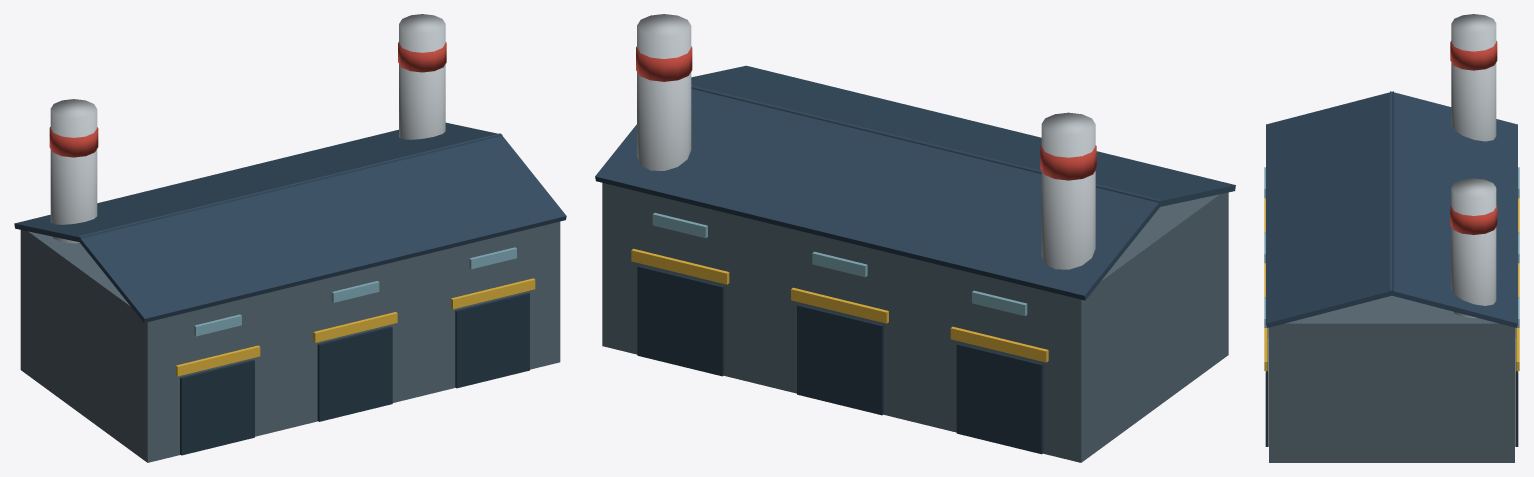
The model's file is PortWarehouse.glb.
3 views of the same model, side by side, from view 1: azimuth 30°, elevation 25°; view 2: azimuth 150°, elevation 25°; view 3: azimuth 270°, elevation 25° (orthographic). The views are drawn at different scales.
Parts seen in each view (by area): view 1: PortWarehouse; view 2: PortWarehouse; view 3: PortWarehouse.
Boxes of the visible parts, bbox=[...] form: PortWarehouse: bbox=[14, 14, 566, 462]; PortWarehouse: bbox=[595, 14, 1235, 462]; PortWarehouse: bbox=[1264, 14, 1519, 462].
Size of the model in its own units: 46 by 28 by 24.95.
